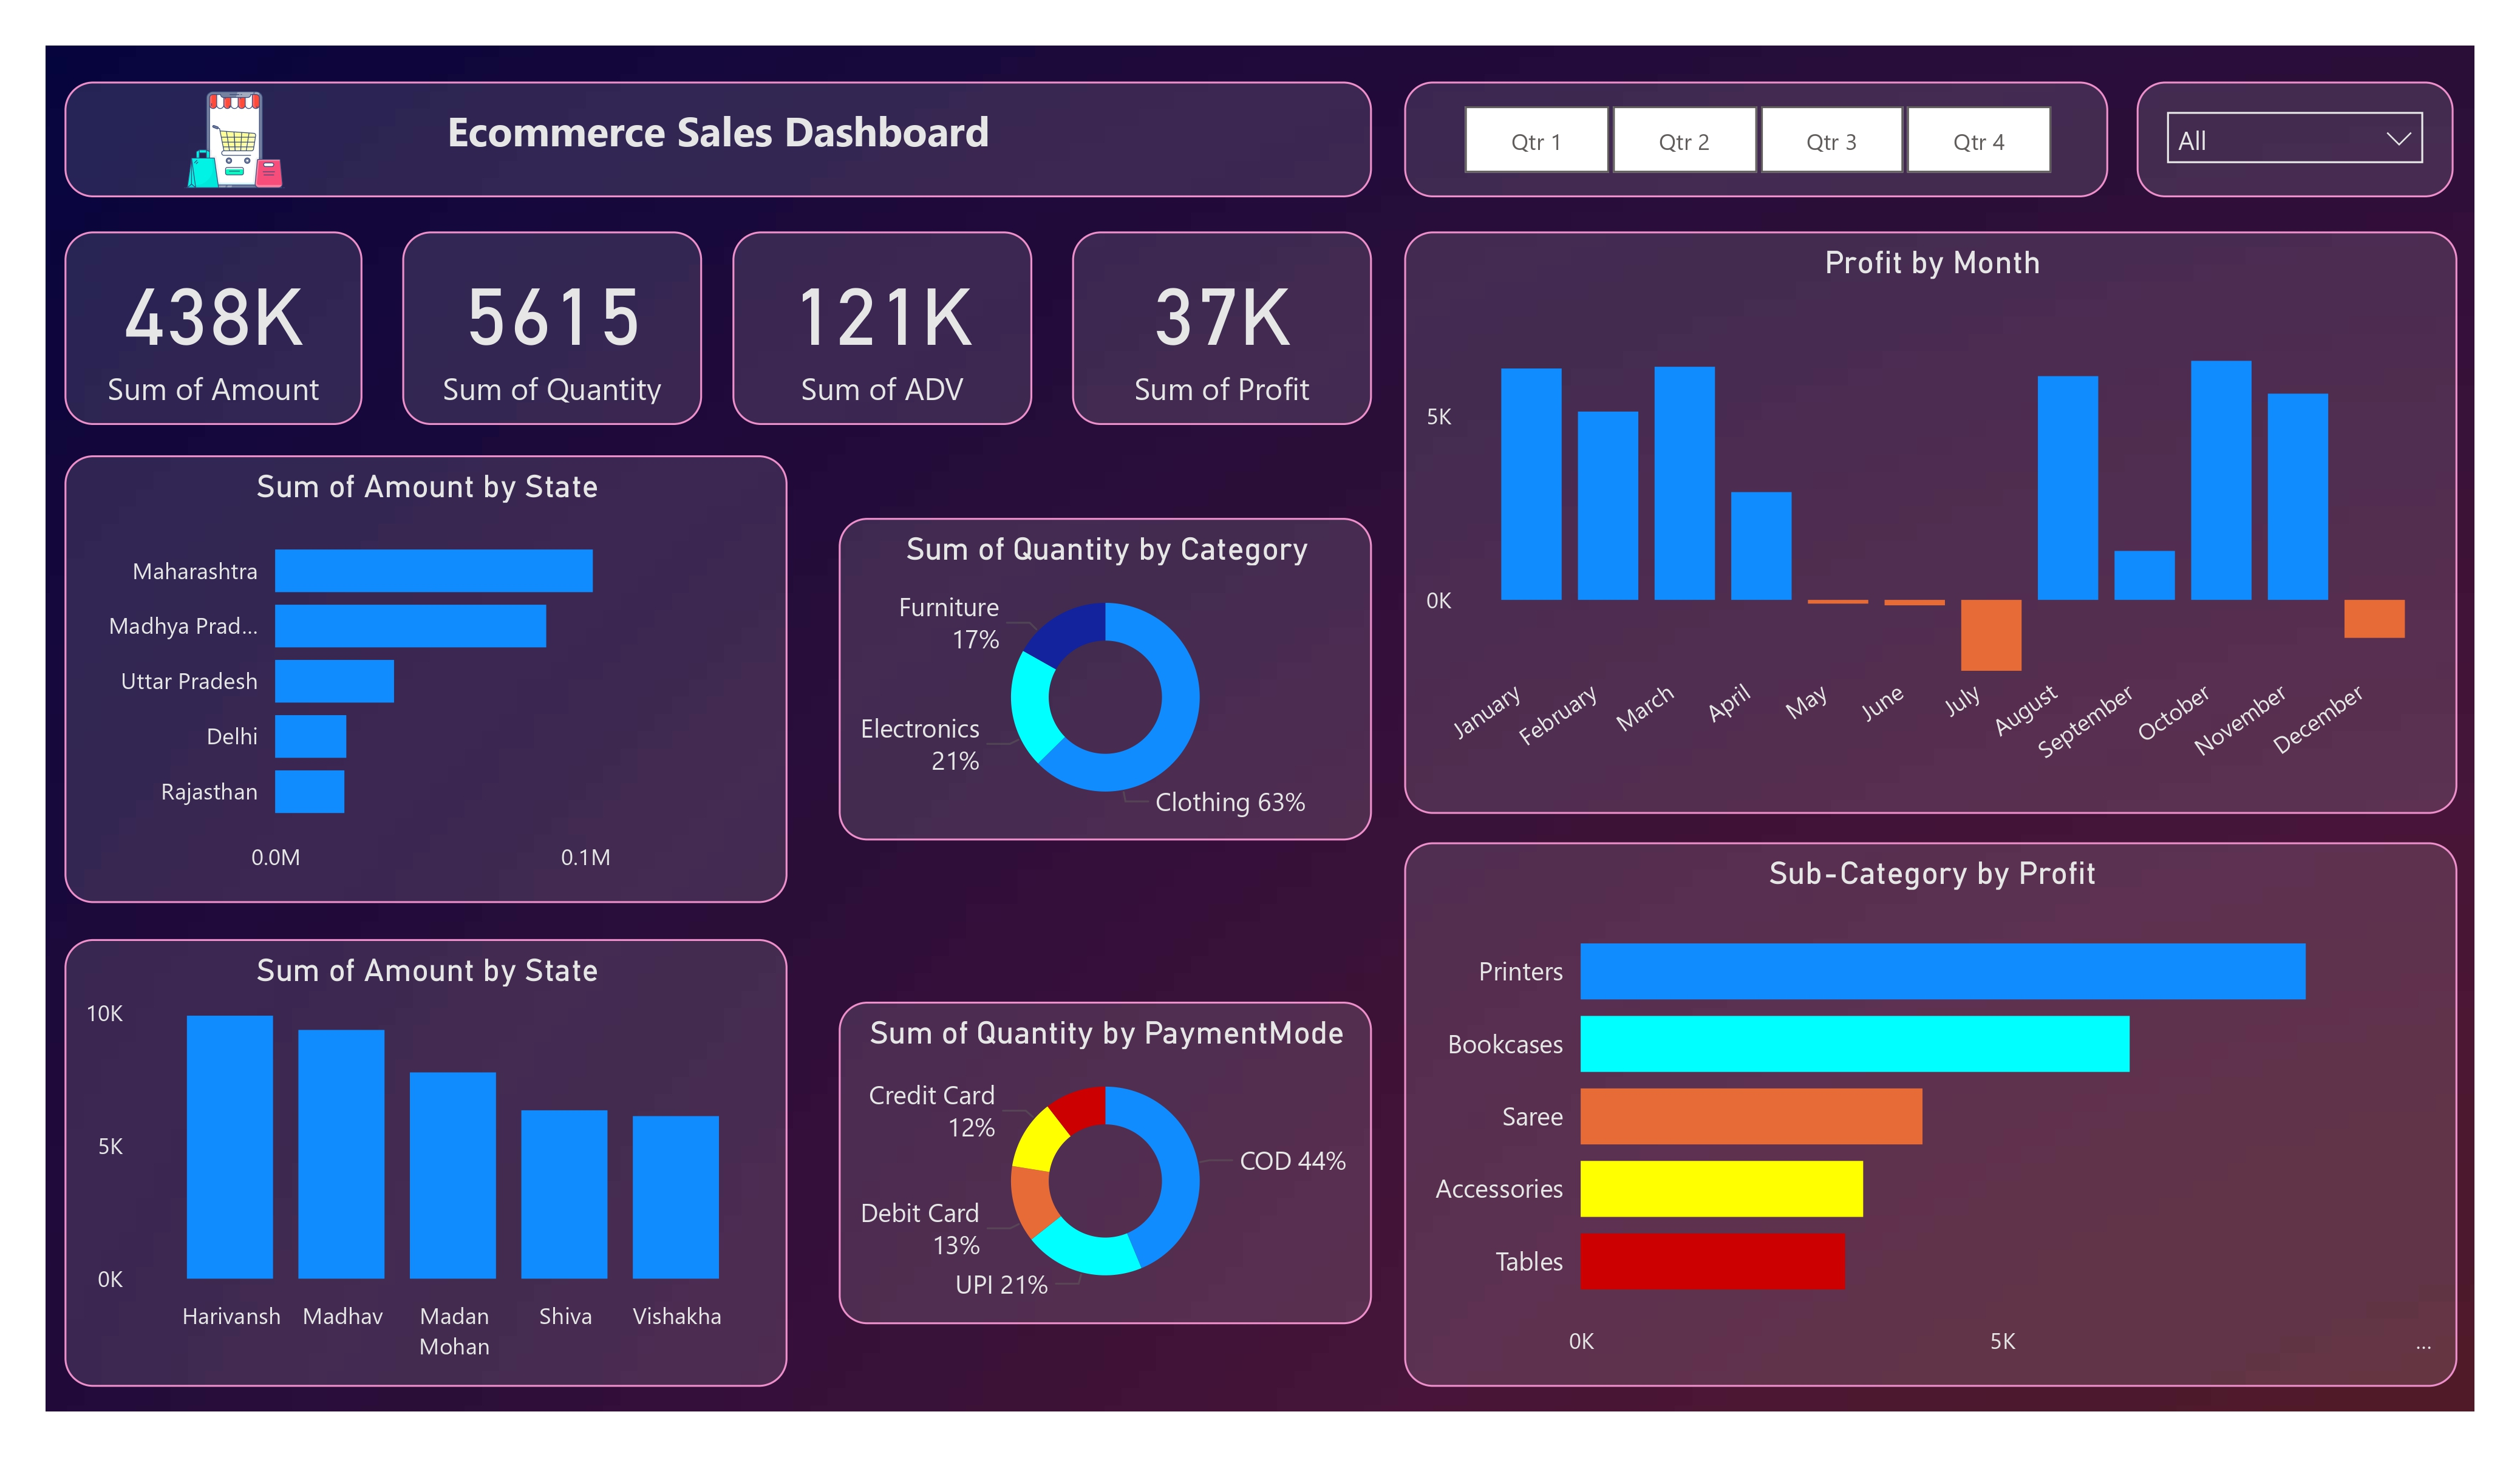

The dashboard page shown, as its layout file describes it:
{"tool":"powerbi","page":{"name":"Page 1","canvas":[1280,720],"ordinal":0},"visuals":[{"type":"columnChart","title":"Profit by Month","fields":{"Category":["Orders.Order Date.Variation.Date Hierarchy.Month"],"Y":["Sum(Details.Profit)"]},"box":[715.6,98.3,555.8,306.4],"z":0},{"type":"barChart","title":"Sub-Category by Profit","fields":{"Category":["Details.Sub-Category"],"Y":["Sum(Details.Profit)"]},"box":[715.6,419.7,555.8,287.1],"z":1000},{"type":"donutChart","fields":{"Category":["Details.Category"],"Y":["Sum(Details.Quantity)"]},"box":[418.2,249,281.1,170.2],"z":2000},{"type":"donutChart","fields":{"Y":["Sum(Details.Quantity)"],"Category":["Details.PaymentMode"]},"box":[418.2,503.8,281.1,170.2],"z":3000},{"type":"card","fields":{"Values":["Sum(Details.Amount)"]},"box":[9.7,98.2,157.6,102.1],"z":4000},{"type":"card","fields":{"Values":["Sum(Details.Quantity)"]},"box":[187.7,98.2,158.5,102.1],"z":5000},{"type":"card","fields":{"Values":["Sum(Details.Profit)"]},"box":[540.8,98.2,158.5,102.1],"z":6000},{"type":"card","fields":{"Values":["Sum(Details.ADV)"]},"box":[361.8,98.2,158.5,102.1],"z":7000},{"type":"barChart","title":"Sum of Amount  by State","fields":{"Category":["Orders.State"],"Y":["Sum(Details.Amount)"]},"box":[9.7,215.9,381.3,236.4],"z":8000},{"type":"columnChart","title":"Sum of Amount  by State","fields":{"Category":["Orders.CustomerName"],"Y":["Sum(Details.Amount)"]},"box":[9.7,470.6,381.1,236.2],"z":9000},{"type":"textbox","box":[9.7,19.5,689.6,60.3],"z":10000},{"type":"slicer","fields":{"Values":["Orders.Order Date.Variation.Date Hierarchy.Quarter"]},"box":[715.9,19.5,371.6,60.3],"z":11000},{"type":"slicer","fields":{"Values":["Orders.State"]},"box":[1102,19.5,167.3,60.3],"z":12000},{"type":"image","box":[9.7,16.5,178,65.2],"z":13000}]}

Visuals, with their boxes in screenshot pixels (x1, y1, x2, y2):
"Profit by Month" columnChart: pyautogui.locateOnScreen(1403, 191, 2482, 786)
"Sub-Category by Profit" barChart: pyautogui.locateOnScreen(1403, 815, 2482, 1372)
donutChart - Details.Category x Sum(Details.Quantity): pyautogui.locateOnScreen(825, 483, 1371, 813)
donutChart - Sum(Details.Quantity) x Details.PaymentMode: pyautogui.locateOnScreen(825, 978, 1371, 1308)
card - Sum(Details.Amount): pyautogui.locateOnScreen(32, 191, 338, 389)
card - Sum(Details.Quantity): pyautogui.locateOnScreen(378, 191, 686, 389)
card - Sum(Details.Profit): pyautogui.locateOnScreen(1063, 191, 1371, 389)
card - Sum(Details.ADV): pyautogui.locateOnScreen(715, 191, 1023, 389)
"Sum of Amount  by State" barChart: pyautogui.locateOnScreen(32, 419, 772, 878)
"Sum of Amount  by State" columnChart: pyautogui.locateOnScreen(32, 914, 772, 1372)
textbox: pyautogui.locateOnScreen(32, 38, 1371, 155)
slicer - Orders.Order Date.Variation.Date Hierarchy.Quarter: pyautogui.locateOnScreen(1403, 38, 2125, 155)
slicer - Orders.State: pyautogui.locateOnScreen(2153, 38, 2477, 155)
image: pyautogui.locateOnScreen(32, 32, 378, 158)
